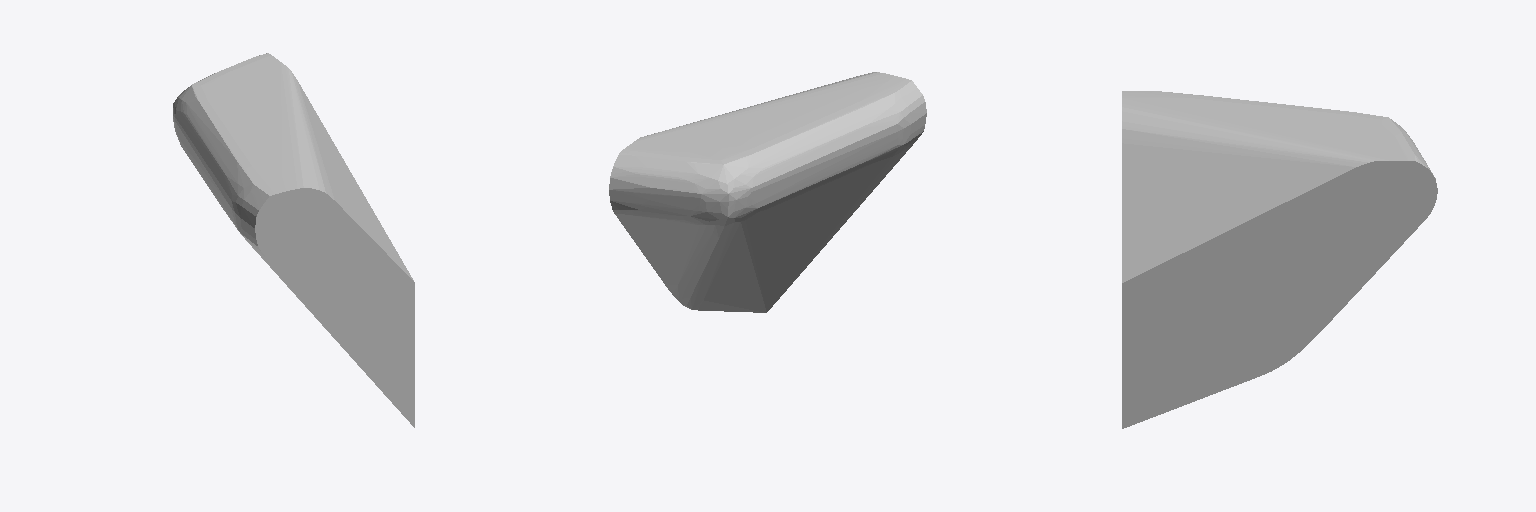
File: Bowl_21_collision_5.obj
3 renders of one model, left to right at view 1: azimuth 30°, elevation 25°; view 2: azimuth 150°, elevation 25°; view 3: azimuth 270°, elevation 25°, orthographic.
Bounding box in the file's own units: 0.0356 × 0.0572 × 0.0609.